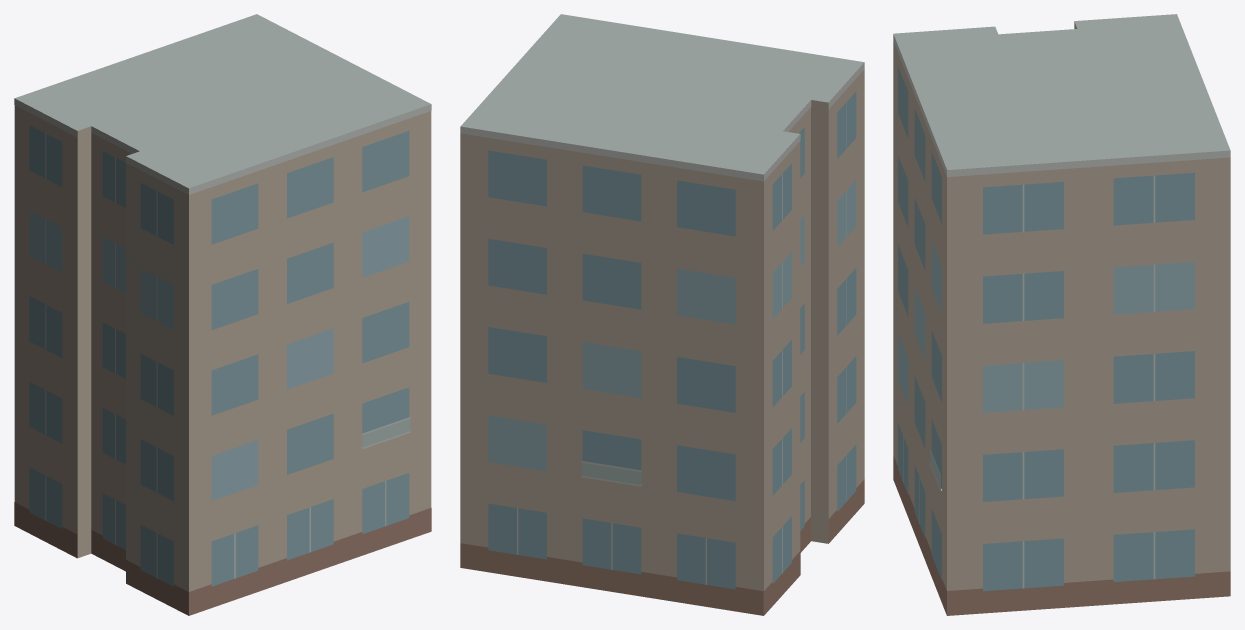
Rendered from survey-upis-32563939.glb.
The picture shows the model from 3 angles, left to right: view 1: azimuth 30°, elevation 25°; view 2: azimuth 150°, elevation 25°; view 3: azimuth 270°, elevation 25°; orthographic projection. The views are drawn at different scales.
Visible parts, largest first — view 1: survey-upis-32563939.tmp; view 2: survey-upis-32563939.tmp; view 3: survey-upis-32563939.tmp.
Boxes of the visible parts, box(x1,y1,x2,y2) form: survey-upis-32563939.tmp: box(14, 14, 431, 615); survey-upis-32563939.tmp: box(460, 14, 864, 615); survey-upis-32563939.tmp: box(893, 14, 1230, 615).
Size of the model in its own units: 11.8 by 15.7 by 10.78.
